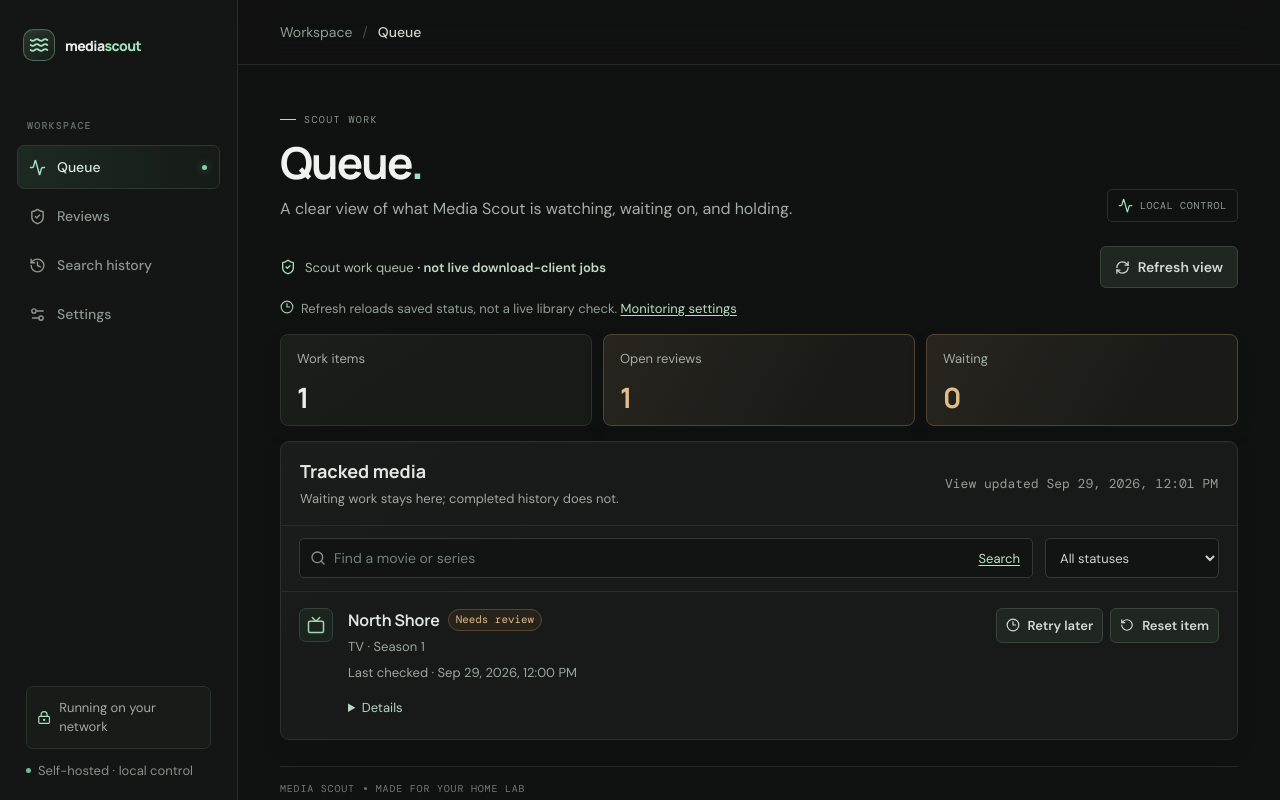
Test: operations dashboard › confirms a reset with the approved copy and posts only after confirmation
Expected: the heading "North Shore" is shown, [348,608,440,632]
Click the button "Reset item": (1165, 626) [1110,608,1219,643]
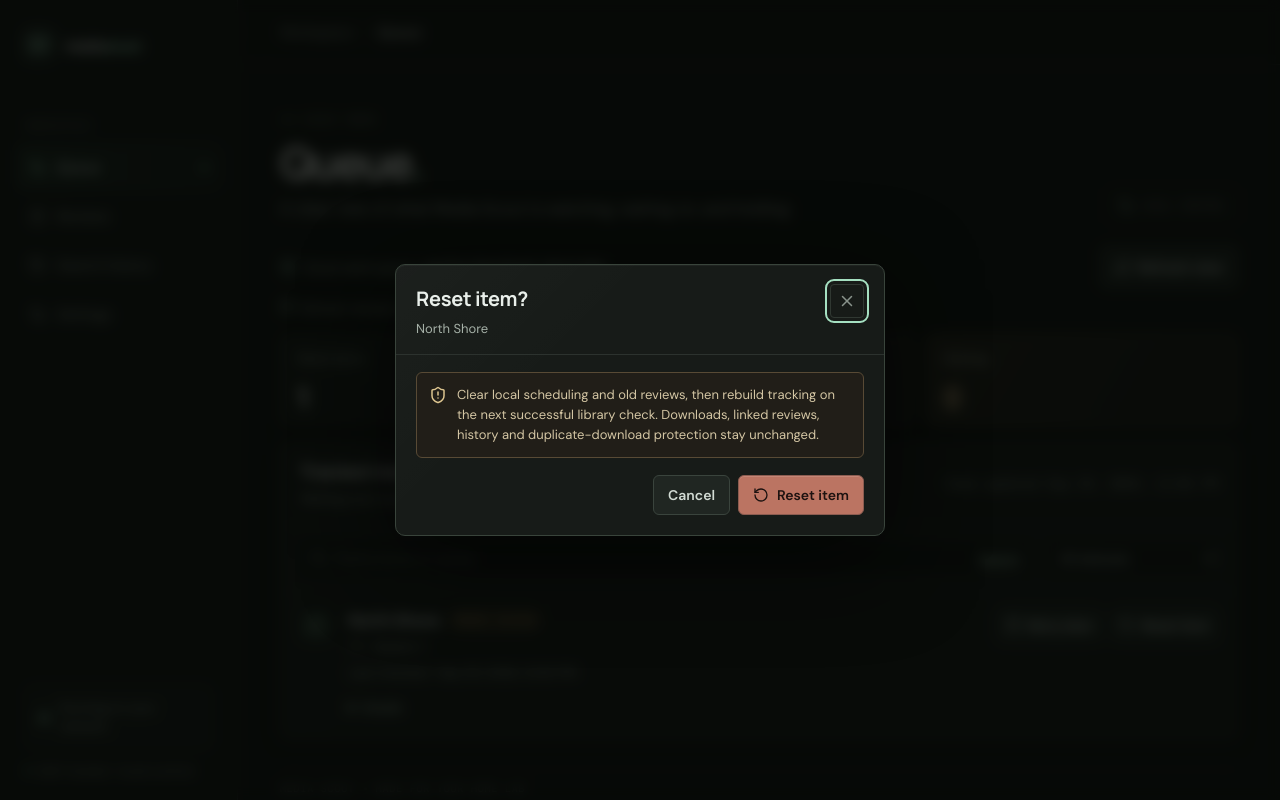
Now the text "Downloads, linked reviews, history and duplicate-download protection stay unchanged" is shown, box [457,386,835,443]
Click the button "Reset item": (801, 496) [738,476,864,516]
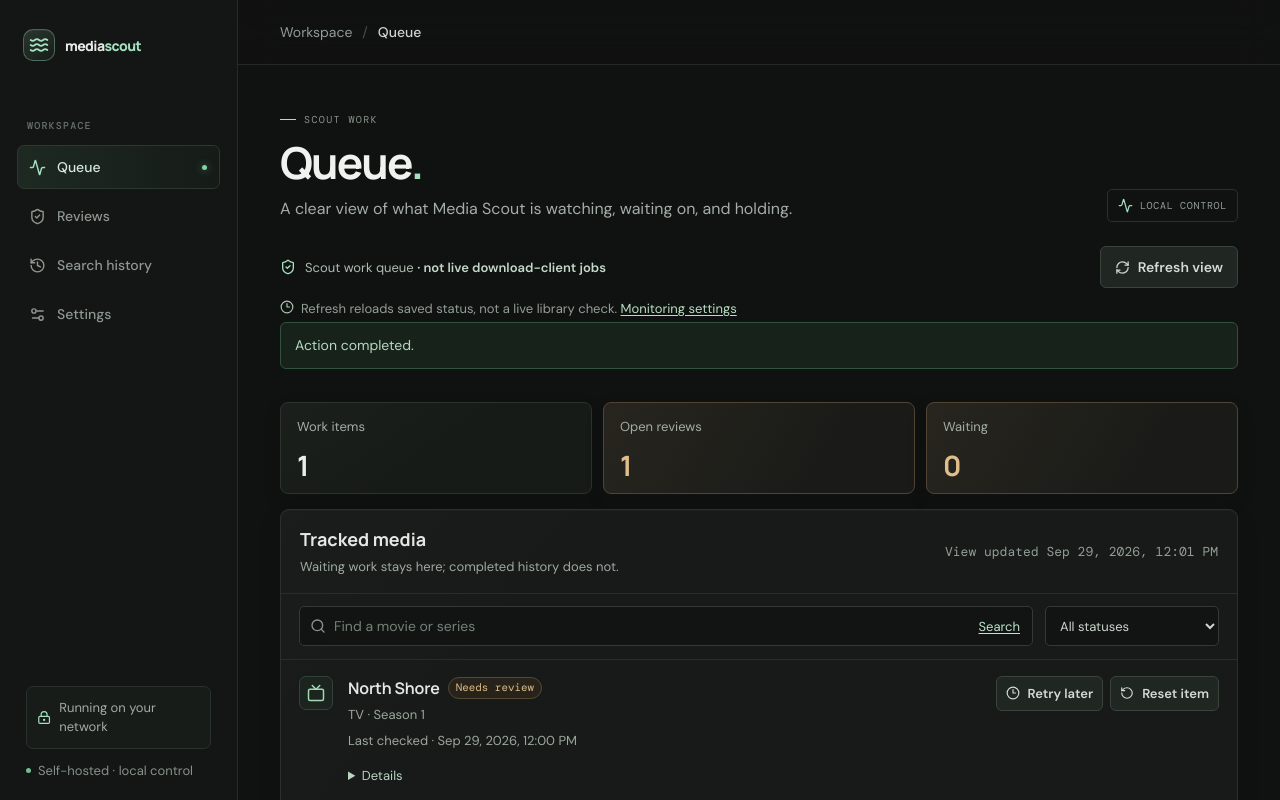
Now the message "Action completed." is shown, box [280,322,1238,370]
